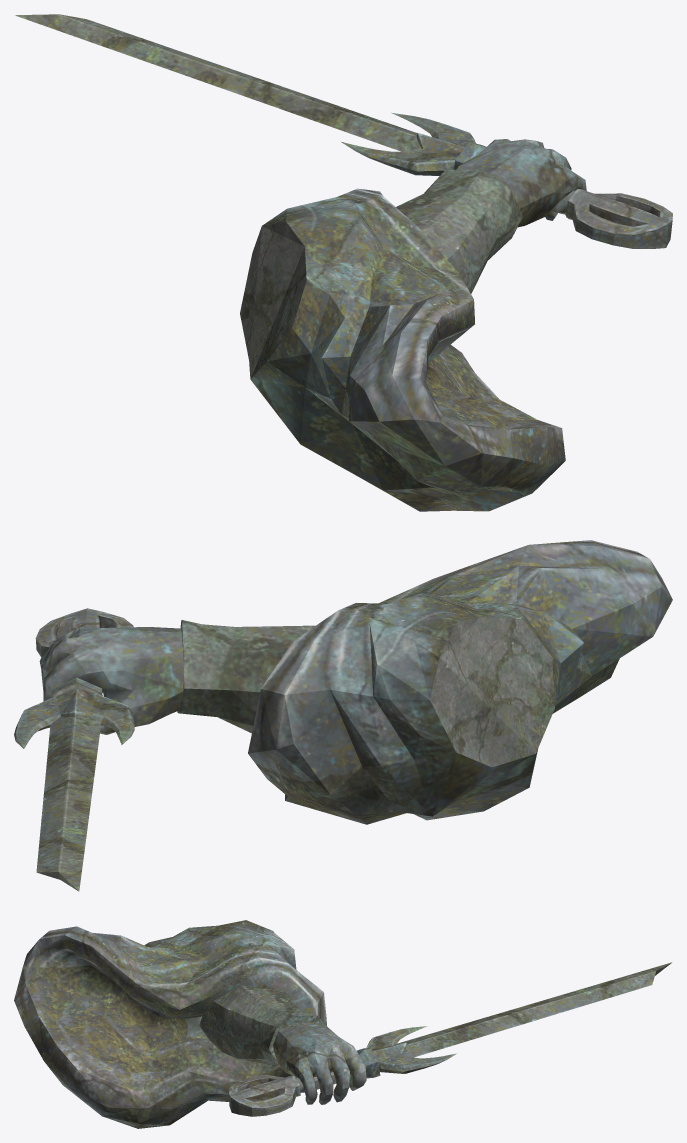
File: bg_anh_mirrorv_statue05_sm_old.FBX
3 views of the same model, one above another, from view 1: azimuth 30°, elevation 25°; view 2: azimuth 150°, elevation 25°; view 3: azimuth 270°, elevation 25° (orthographic). The views are drawn at different scales.
Parts seen in each view (by area): view 1: bg_anh_mirrorv_statue05_sm_old; view 2: bg_anh_mirrorv_statue05_sm_old; view 3: bg_anh_mirrorv_statue05_sm_old.
Boxes of the visible parts, left/top/right/bottom form: bg_anh_mirrorv_statue05_sm_old: left=15, top=14, right=672, bottom=511; bg_anh_mirrorv_statue05_sm_old: left=14, top=540, right=672, bottom=891; bg_anh_mirrorv_statue05_sm_old: left=14, top=920, right=671, bottom=1128.
Size of the model in its own units: 108 by 58.45 by 203.
